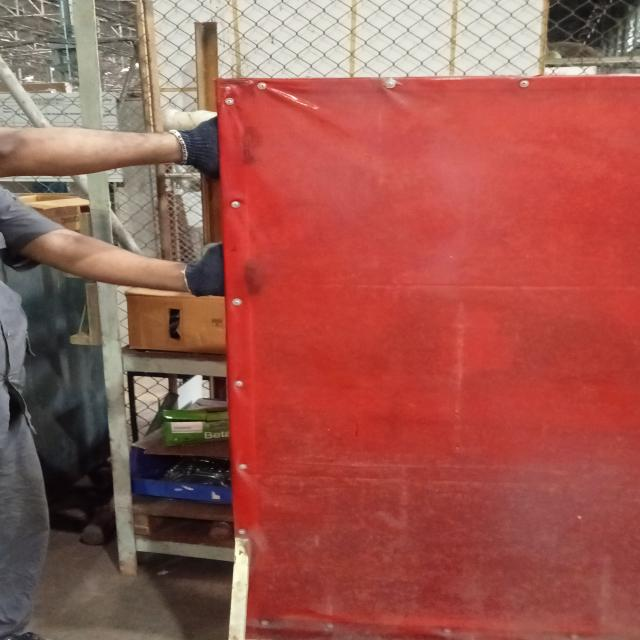Gloves-Detection: (164, 113, 224, 178), (185, 240, 227, 300)
